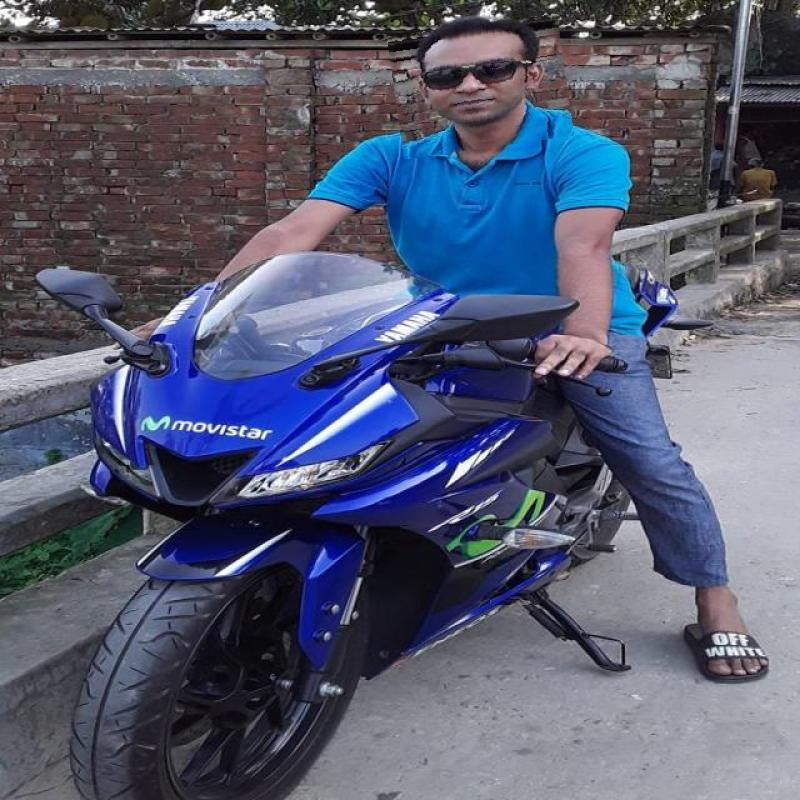nohelmet: (391, 18, 571, 154)
